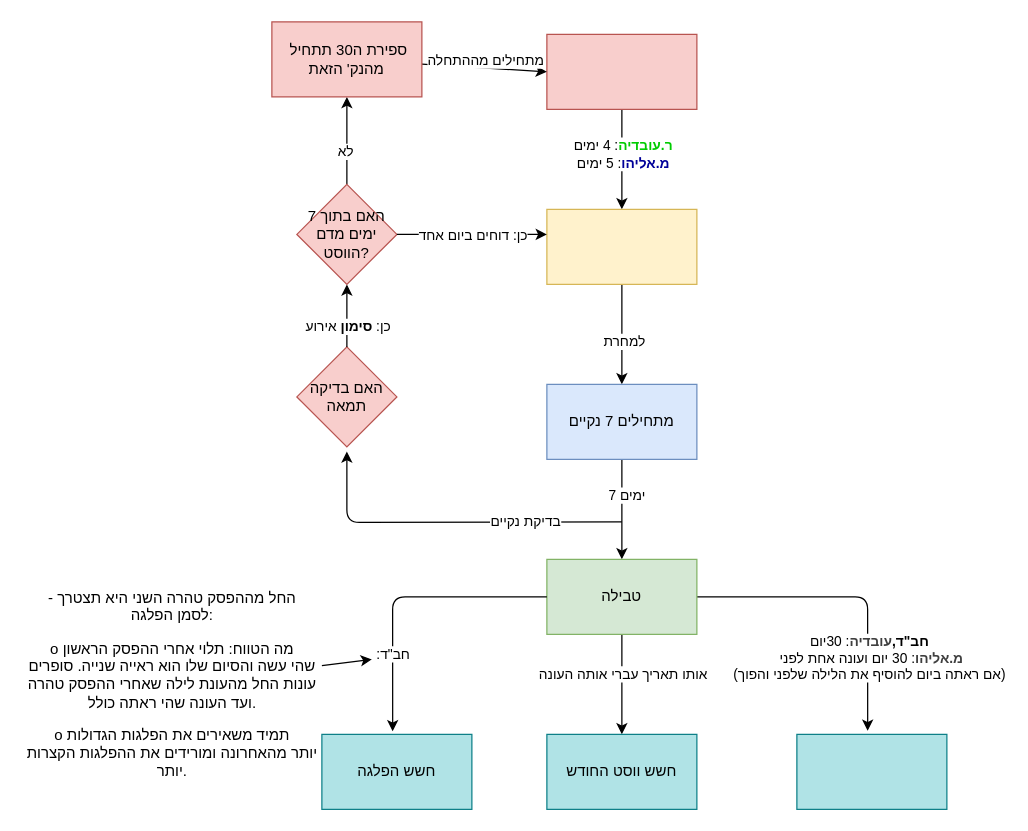
Some shapes in this 1028 by 831 pixel diagram are drawn without their labels. Each missing label, with the box of its shape:
אפשרות סימון הפסק טהרה: (546, 208, 697, 284)
חשש בינונית: (796, 733, 947, 809)
סימון דם ווסט: (546, 33, 697, 109)
